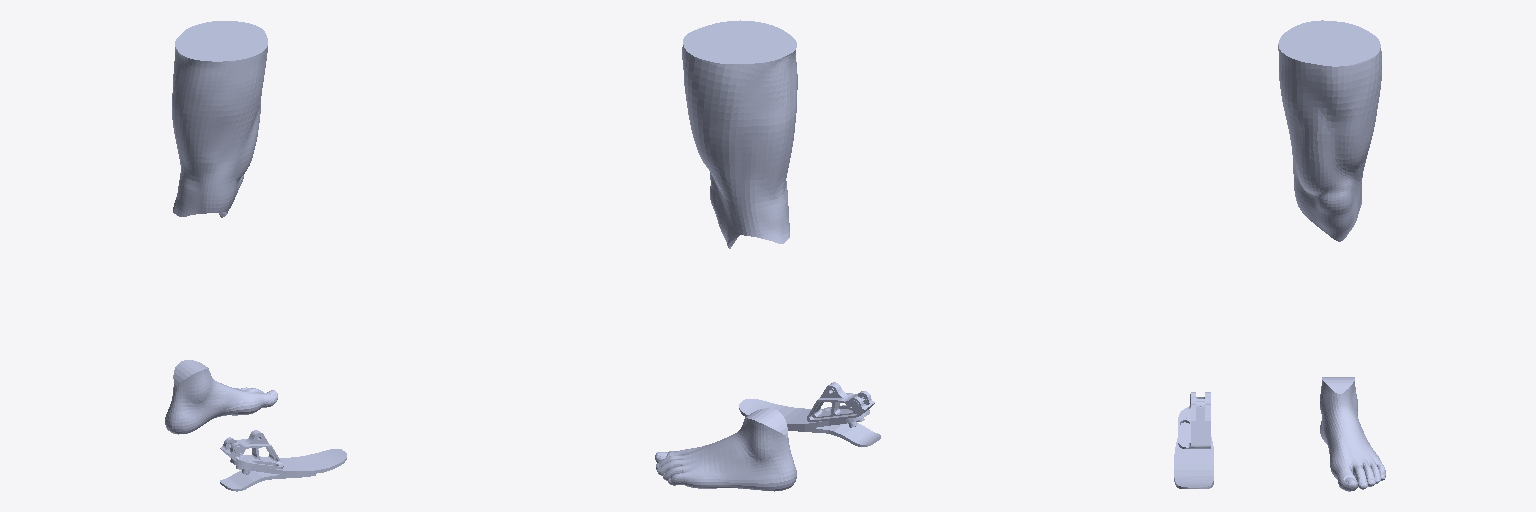
robot.urdf — oslsim:
<?xml version="1.0" encoding="utf-8"?>
<robot name="oslsim">
  <gazebo>
    <plugin name="gazebo_ros_control" filename="libgazebo_ros_control.so">
      <robotNamespace>/oslsim</robotNamespace>
    </plugin>
  </gazebo>

  <gazebo>
      <plugin name="p3d_base_controller" filename="libgazebo_ros_p3d.so">
        <robotNamespace>/oslsim</robotNamespace>
        <alwaysOn>true</alwaysOn>
        <updateRate>50.0</updateRate>
        <bodyName>body</bodyName>
        <topicName>odom</topicName>
        <gaussianNoise>0.01</gaussianNoise>
        <frameName>world</frameName>
        <xyzOffsets>0 0 0</xyzOffsets>
        <rpyOffsets>0 0 0</rpyOffsets>
      </plugin>
  </gazebo>

  <link name="world"/>

  <link name="slider">
    <inertial>
          <origin rpy="0.0 0 0" xyz="0 0 0"/>
          <mass value="0.001" />
          <inertia ixx="1.0e-07" ixy="0.0" ixz="0.0" iyy="1.0e-07" iyz="0.0" izz="1.0e-07"/>
      </inertial>
      <collision>
          <origin rpy="0.0 0 0" xyz="0 0 0"/>
          <geometry>
              <box size="0.25 0.25 0.01"/>
          </geometry>
      </collision>
  </link>

  <gazebo reference="slider">
      <kp>1000.0</kp>
      <kd>1000.0</kd>
      <mu1>0.5</mu1>
      <mu2>0.5</mu2>
      <material>Gazebo/Red</material>
  </gazebo>

  <joint name="slider_joint" type="prismatic">
      <origin xyz="0 0 0" rpy="0.0 0.0 0.0"/>
      <parent link="world" />
      <child link="slider" />
      <axis xyz="1 0 0" />
      <limit effort="1" lower="-10.0" upper="100.0" velocity="10" />
      <dynamics damping="0.1" friction="0.1"/>
  </joint>

  <link name="entity">
      <inertial>
            <origin rpy="0.0 0 0" xyz="0 0 0"/>
            <mass value="0.1" />
            <inertia ixx="4.16666666667e-05" ixy="0.0" ixz="0.0" iyy="4.16666666667e-05" iyz="0.0" izz="4.16666666667e-05"/>
        </inertial>
  </link>

  <gazebo reference="entity">
      <kp>1000.0</kp>
      <kd>1000.0</kd>
      <mu1>0.5</mu1>
      <mu2>0.5</mu2>
      <material>Gazebo/Blue</material>
  </gazebo>

  <joint name="entity_joint" type="fixed">
      <parent link="slider"/>
      <child link="entity"/>
      <origin xyz="0 0 -0.05" rpy="0 0 0"/>
  </joint>

  <joint name="root_joint" type="fixed">
    <parent link="entity"/>
    <child link="body"/>
  </joint>  

  <link name="body">
    <inertial>
      <origin
        xyz="0 0 0"
        rpy="0 0 0" />
      <mass
        value="0.1" />
      <inertia
        ixx="0.01"
        ixy="0"
        ixz="0"
        iyy="0.01"
        iyz="0"
        izz="0.01" />
    </inertial>
  </link>
  
  <gazebo reference="body">
      <kp>1000.0</kp>
      <kd>1000.0</kd>
      <mu1>0.5</mu1>
      <mu2>0.5</mu2>
  </gazebo>

  <link name="thighL">
    <inertial>
      <origin
        xyz="0.0079 0.105 -0.18514"
        rpy="1.5708 0 0" />
      <mass
        value="0.55797" />
      <inertia
        ixx="0.0451"
        ixy="-0.0023863"
        ixz="0.00041503"
        iyy="0.017843"
        iyz="-0.00079008"
        izz="0.046937" />
    </inertial>
    <visual>
      <origin
        xyz="0 0 -0.004"
        rpy="0 0 0" />
      <geometry>
        <mesh
          filename="package://oslsim/meshes/thigh.dae" />
      </geometry>
      <material
        name="">
        <color
          rgba="0.79216 0.81961 0.93333 1" />
      </material>
    </visual>
    <collision>
      <origin
        xyz="0.0079 0.105 -0.18514"
        rpy="1.5708 0 0" />
      <geometry>
        <box size="0.15 0.3 0.15"/>
      </geometry>
    </collision>
  </link>

  <gazebo reference="thighL">
      <kp>1000.0</kp>
      <kd>1000.0</kd>
      <mu1>0.5</mu1>
      <mu2>0.5</mu2>
      <sensor name="thighL_imu" type="imu">
        <always_on>true</always_on>
        <update_rate>50</update_rate>
        <visualize>true</visualize>
        <topic>__default_topic__</topic>
        <plugin filename="libgazebo_ros_imu_sensor.so" name="imu_plugin">
          <robotNamespace>/oslsim</robotNamespace>
          <topicName>imu/thighL</topicName>
          <bodyName>thighL</bodyName>
          <updateRateHZ>50.0</updateRateHZ>
          <gaussianNoise>0.0</gaussianNoise>
          <xyzOffset>0 0 0</xyzOffset>
          <rpyOffset>0 0 0</rpyOffset>
          <frameName>thighL</frameName>
          <initialOrientationAsReference>false</initialOrientationAsReference>
        </plugin>
        <pose>0 0 0 0 0 0</pose>
      </sensor>
  </gazebo>

  <link name="thighR">
    <inertial>
      <origin
        xyz="0.0149 -0.105 -0.18907"
        rpy="1.5708 0 0" />
      <mass
        value="0.55993" />
      <inertia
        ixx="0.045555"
        ixy="-0.0028683"
        ixz="-0.00027507"
        iyy="0.018107"
        iyz="0.0020012"
        izz="0.04735" />
    </inertial>
    <visual>
      <origin
        xyz="0 0 0"
        rpy="0 0 0" />
      <geometry>
        <mesh
          filename="package://oslsim/meshes/socket.dae" />
      </geometry>
      <material
        name="">
        <color
          rgba="0.79216 0.81961 0.93333 1" />
      </material>
    </visual>
    <collision>
      <origin
        xyz="0.0149 -0.105 -0.18907"
        rpy="1.5708 0 0" />
      <geometry>
        <box size="0.15 0.3 0.15"/>
      </geometry>
    </collision>
  </link>

  <gazebo reference="thighR">
      <kp>1000.0</kp>
      <kd>1000.0</kd>
      <mu1>0.5</mu1>
      <mu2>0.5</mu2>
      <sensor name="thighR_imu" type="imu">
        <always_on>true</always_on>
        <update_rate>50</update_rate>
        <visualize>true</visualize>
        <topic>__default_topic__</topic>
        <plugin filename="libgazebo_ros_imu_sensor.so" name="imu_plugin">
          <robotNamespace>/oslsim</robotNamespace>
          <topicName>imu/thighR</topicName>
          <bodyName>thighR</bodyName>
          <updateRateHZ>50.0</updateRateHZ>
          <gaussianNoise>0.0</gaussianNoise>
          <xyzOffset>0 0 0</xyzOffset>
          <rpyOffset>0 0 0</rpyOffset>
          <frameName>thighR</frameName>
          <initialOrientationAsReference>false</initialOrientationAsReference>
        </plugin>
        <pose>0 0 0 0 0 0</pose>
      </sensor>      
  </gazebo>

  <joint name="hipL" type="revolute">
    <parent link="body"/>
    <child link="thighL"/>
    <origin xyz="0 0 0" rpy="0 0 0" />
    <axis xyz="0 1 0" />
    <dynamics damping="0.5" friction="0.5"/>
    <limit effort="1.0" velocity="100" lower="-1.57" upper="1.57" />
  </joint>

  <transmission name="hipL_trans">
    <type>transmission_interface/SimpleTransmission</type>
    <joint name="hipL">
      <hardwareInterface>hardware_interface/EffortJointInterface</hardwareInterface>
    </joint>
    <actuator name="hipL_motor">
      <hardwareInterface>hardware_interface/EffortJointInterface</hardwareInterface>
      <mechanicalReduction>1</mechanicalReduction>
    </actuator>
  </transmission>

  <joint name="hipR" type="revolute">
    <parent link="body"/>
    <child link="thighR"/>
    <origin xyz="0 0 0" rpy="0 0 0" />
    <axis xyz="0 1 0" />
    <dynamics damping="0.5" friction="0.5"/>
    <limit effort="1.0" velocity="100" lower="-1.57" upper="1.57" />
  </joint>

  <transmission name="hipR_trans">
    <type>transmission_interface/SimpleTransmission</type>
    <joint name="hipR">
      <hardwareInterface>hardware_interface/EffortJointInterface</hardwareInterface>
    </joint>
    <actuator name="hipR_motor">
      <hardwareInterface>hardware_interface/EffortJointInterface</hardwareInterface>
      <mechanicalReduction>1</mechanicalReduction>
    </actuator>
  </transmission>

  <link name="pylonL">
    <inertial>
      <origin
        xyz="0.00071104 -0.14671 -0.059447"
        rpy="0 0 0" />
      <mass
        value="0.093649" />
      <inertia
        ixx="0.00092445"
        ixy="-1.5017E-05"
        ixz="-2.9597E-06"
        iyy="0.00064852"
        iyz="1.2705E-05"
        izz="0.0013496" />
    </inertial>
    <visual>
      <origin
        xyz="0.006 0.01 0.006"
        rpy="0 0 0" />
      <geometry>
        <mesh
          filename="package://oslsim/meshes/pylon.dae" />
      </geometry>
      <material
        name="">
        <color
          rgba="0.79216 0.81961 0.93333 1" />
      </material>
    </visual>
    <collision>
      <origin
        xyz="0.00071104 -0.14671 -0.059447"
        rpy="0 0 0" />
      <geometry>
        <box size="0.1 0.35 0.1"/>
      </geometry>
    </collision>
  </link>

  <gazebo reference="pylonL">
      <kp>1000.0</kp>
      <kd>1000.0</kd>
      <mu1>0.5</mu1>
      <mu2>0.5</mu2>
      <sensor name="pylonL_imu" type="imu">
        <always_on>true</always_on>
        <update_rate>50</update_rate>
        <visualize>true</visualize>
        <topic>__default_topic__</topic>
        <plugin filename="libgazebo_ros_imu_sensor.so" name="imu_plugin">
          <robotNamespace>/oslsim</robotNamespace>
          <topicName>imu/pylonL</topicName>
          <bodyName>pylonL</bodyName>
          <updateRateHZ>50.0</updateRateHZ>
          <gaussianNoise>0.0</gaussianNoise>
          <xyzOffset>0 0 0</xyzOffset>
          <rpyOffset>0 0 0</rpyOffset>
          <frameName>pylonL</frameName>
          <initialOrientationAsReference>false</initialOrientationAsReference>
        </plugin>
        <pose>0 0 0 0 0 0</pose>
      </sensor>      
  </gazebo>

  <link name="pylonR">
    <inertial>
      <origin
        xyz="0.00071137 -0.14671 0.059447"
        rpy="0 0 0" />
      <mass
        value="0.09365" />
      <inertia
        ixx="0.00092446"
        ixy="-1.5017E-05"
        ixz="2.9586E-06"
        iyy="0.00064852"
        iyz="-1.2701E-05"
        izz="0.0013496" />
    </inertial>
    <visual>
      <origin
        xyz="0 0 0"
        rpy="0 0 0" />
      <geometry>
        <mesh
          filename="package://oslsim/meshes/pylonR.dae" />
      </geometry>
      <material
        name="">
        <color
          rgba="0.79216 0.81961 0.93333 1" />
      </material>
    </visual>
    <collision>
      <origin
        xyz="0.00071137 -0.14671 0.059447"
        rpy="0 0 0" />
      <geometry>
        <box size="0.1 0.35 0.1"/>
      </geometry>
    </collision>
  </link>

  <gazebo reference="pylonR">
      <kp>1000.0</kp>
      <kd>1000.0</kd>
      <mu1>0.5</mu1>
      <mu2>0.5</mu2>
      <sensor name="pylonR_imu" type="imu">
        <always_on>true</always_on>
        <update_rate>50</update_rate>
        <visualize>true</visualize>
        <topic>__default_topic__</topic>
        <plugin filename="libgazebo_ros_imu_sensor.so" name="imu_plugin">
          <robotNamespace>/oslsim</robotNamespace>
          <topicName>imu/pylonR</topicName>
          <bodyName>pylonR</bodyName>
          <updateRateHZ>50.0</updateRateHZ>
          <gaussianNoise>0.0</gaussianNoise>
          <xyzOffset>0 0 0</xyzOffset>
          <rpyOffset>0 0 0</rpyOffset>
          <frameName>pylonR</frameName>
          <initialOrientationAsReference>false</initialOrientationAsReference>
        </plugin>
        <pose>0 0 0 0 0 0</pose>
      </sensor>      
  </gazebo>

  <joint name="kneeL"
    type="revolute">
    <origin
      xyz="-0.0073766 0.057865 -0.4427"
      rpy="1.5708 0 0" />
    <parent
      link="thighL" />
    <child
      link="pylonL" />
    <axis
      xyz="0 0 1" />
    <dynamics damping="0.5" friction="0.5"/>
    <limit effort="1.0" velocity="100" lower="-1.57" upper="1.57" />      
  </joint>

  <transmission name="kneeL_trans">
    <type>transmission_interface/SimpleTransmission</type>
    <joint name="kneeL">
      <hardwareInterface>hardware_interface/EffortJointInterface</hardwareInterface>
    </joint>
    <actuator name="kneeL_motor">
      <hardwareInterface>hardware_interface/EffortJointInterface</hardwareInterface>
      <mechanicalReduction>1</mechanicalReduction>
    </actuator>
  </transmission>

  <joint name="kneeR" type="revolute">
    <origin
      xyz="-0.0073766 -0.062441 -0.4427"
      rpy="1.5708 0 0" />
    <parent
      link="thighR" />
    <child
      link="pylonR" />
    <axis
      xyz="0 0 1" />
    <dynamics damping="0.5" friction="0.5"/>
    <limit effort="1.0" velocity="100" lower="-1.57" upper="1.57" />
  </joint>

  <transmission name="kneeR_trans">
    <type>transmission_interface/SimpleTransmission</type>
    <joint name="kneeR">
      <hardwareInterface>hardware_interface/EffortJointInterface</hardwareInterface>
    </joint>
    <actuator name="kneeR_motor">
      <hardwareInterface>hardware_interface/EffortJointInterface</hardwareInterface>
      <mechanicalReduction>1</mechanicalReduction>
    </actuator>
  </transmission>

  <link name="footL">
    <inertial>
      <origin
        xyz="0.029606 -0.056108 0.013102"
        rpy="0 0 0" />
      <mass
        value="0.001" />
      <inertia
        ixx="0.00051563"
        ixy="2.5317E-06"
        ixz="-1.6036E-06"
        iyy="0.00049449"
        iyz="0.0001344"
        izz="0.0001125" />
    </inertial>
    <visual>
      <origin
        xyz="-0.0035 0.02 0.024"
        rpy="0 0 0" />
      <geometry>
        <mesh
          filename="package://oslsim/meshes/foot.dae" />
      </geometry>
      <material
        name="">
        <color
          rgba="0.79216 0.81961 0.93333 1" />
      </material>
    </visual>
    <collision>
      <origin
        xyz="0.029606 -0.065 0.05"
        rpy="0 0 0" />
      <geometry>
        <box size="0.0675 0.025 0.2"/>
      </geometry>
      <surface>
        <friction>
          <ode>
            <mu>1.0</mu>
            <mu2>1.0</mu2>
            <fdir1>1 0 0</fdir1>
            <slip1>0</slip1>
            <slip2>0</slip2>
          </ode>
          <torsional>
            <coefficient>0.0</coefficient>
            <patch_radius>0</patch_radius>
            <surface_radius>0</surface_radius>
            <use_patch_radius>1</use_patch_radius>
            <ode>
              <slip>0</slip>
            </ode>
          </torsional>
        </friction>  
      </surface>
    </collision>
  </link>

  <gazebo reference="footL">
      <kp>1000.0</kp>
      <kd>1000.0</kd>
      <mu1>1.0</mu1>
      <mu2>1.0</mu2>
      <sensor name="footL_imu" type="imu">
        <always_on>true</always_on>
        <update_rate>50</update_rate>
        <visualize>true</visualize>
        <topic>__default_topic__</topic>
        <plugin filename="libgazebo_ros_imu_sensor.so" name="imu_plugin">
          <robotNamespace>/oslsim</robotNamespace>
          <topicName>imu/footL</topicName>
          <bodyName>footL</bodyName>
          <updateRateHZ>50.0</updateRateHZ>
          <gaussianNoise>0.0</gaussianNoise>
          <xyzOffset>0 0 0</xyzOffset>
          <rpyOffset>0 0 0</rpyOffset>
          <frameName>footL</frameName>
          <initialOrientationAsReference>false</initialOrientationAsReference>
        </plugin>
        <pose>0 0 0 0 0 0</pose>
      </sensor>      
  </gazebo>

  <link name="footR">
    <inertial>
      <origin
        xyz="0.029606 0.056108 0.013102"
        rpy="0 0 0" />
      <mass
        value="0.001" />
      <inertia
        ixx="0.00051564"
        ixy="-2.531E-06"
        ixz="-1.6019E-06"
        iyy="0.0004945"
        iyz="-0.0001344"
        izz="0.0001125" />
    </inertial>
    <visual>
      <origin
        xyz="0 0 0"
        rpy="0.175 0 0" />
      <geometry>
        <mesh
          filename="package://oslsim/meshes/footR.dae" />
      </geometry>
      <material
        name="">
        <color
          rgba="0.79216 0.81961 0.93333 1" />
      </material>
    </visual>
    <collision>
      <origin
        xyz="0.029606 0.065 0.05"
        rpy="0 0 0" />
      <geometry>
        <box size="0.0675 0.025 0.2"/>
      </geometry>
      <surface>
        <friction>
          <ode>
            <mu>1.0</mu>
            <mu2>1.0</mu2>
            <fdir1>1 0 0</fdir1>
            <slip1>0</slip1>
            <slip2>0</slip2>
          </ode>
          <torsional>
            <coefficient>0.0</coefficient>
            <patch_radius>0</patch_radius>
            <surface_radius>0</surface_radius>
            <use_patch_radius>1</use_patch_radius>
            <ode>
              <slip>0</slip>
            </ode>
          </torsional>
        </friction>    
      </surface>
    </collision>
  </link>

  <gazebo reference="footR">
      <kp>1000.0</kp>
      <kd>1000.0</kd>
      <mu1>1.0</mu1>
      <mu2>1.0</mu2>
      <sensor name="footR_imu" type="imu">
        <always_on>true</always_on>
        <update_rate>50</update_rate>
        <visualize>true</visualize>
        <topic>__default_topic__</topic>
        <plugin filename="libgazebo_ros_imu_sensor.so" name="imu_plugin">
          <robotNamespace>/oslsim</robotNamespace>
          <topicName>imu/footR</topicName>
          <bodyName>footR</bodyName>
          <updateRateHZ>50.0</updateRateHZ>
          <gaussianNoise>0.0</gaussianNoise>
          <xyzOffset>0 0 0</xyzOffset>
          <rpyOffset>0 0 0</rpyOffset>
          <frameName>footR</frameName>
          <initialOrientationAsReference>false</initialOrientationAsReference>
        </plugin>
        <pose>0 0 0 0 0 0</pose>
      </sensor>      
  </gazebo>

  <joint name="ankleL"
    type="revolute">
    <origin
      xyz="-0.00077967 -0.3134 -0.026811"
      rpy="0 1.5708 0" />
    <parent
      link="pylonL" />
    <child
      link="footL" />
    <axis
      xyz="1 0 0" />
    <dynamics damping="0.5" friction="0.5"/>      
    <limit effort="1.0" velocity="100" lower="-1.57" upper="1.57" />      
  </joint>

  <transmission name="ankleL_trans">
    <type>transmission_interface/SimpleTransmission</type>
    <joint name="ankleL">
      <hardwareInterface>hardware_interface/EffortJointInterface</hardwareInterface>
    </joint>
    <actuator name="ankleL_motor">
      <hardwareInterface>hardware_interface/EffortJointInterface</hardwareInterface>
      <mechanicalReduction>1</mechanicalReduction>
    </actuator>
  </transmission>

  <joint name="ankleR"
    type="revolute">
    <origin
      xyz="-0.00077967 -0.3134 0.026811"
      rpy="-3.1416 -1.5708 0" />
    <parent
      link="pylonR" />
    <child
      link="footR" />
    <axis
      xyz="1 0 0" />
    <dynamics damping="0.5" friction="0.5"/>
    <limit effort="1.0" velocity="100" lower="-1.57" upper="1.57" />      
  </joint>

  <transmission name="ankleR_trans">
    <type>transmission_interface/SimpleTransmission</type>
    <joint name="ankleR">
      <hardwareInterface>hardware_interface/EffortJointInterface</hardwareInterface>
    </joint>
    <actuator name="ankleR_motor">
      <hardwareInterface>hardware_interface/EffortJointInterface</hardwareInterface>
      <mechanicalReduction>1</mechanicalReduction>
    </actuator>
  </transmission>

  <link name="footL_heel">
    <inertial>
          <origin xyz="0 0 0" rpy="0 0 0"/>
          <mass value="0.00001" />
          <inertia ixx="1.6e-08" ixy="0.0" ixz="0.0" iyy="1.6e-08" iyz="0.0" izz="1.6e-08"/>
      </inertial>
      <collision>
          <origin xyz="0 0 0" rpy="0 0 0"/>
          <geometry>
              <sphere radius="0.020"/>
          </geometry>
      </collision>
  </link>

  <gazebo reference="footL_heel">
      <kp>1000.0</kp>
      <kd>1000.0</kd>
      <mu1>0.5</mu1>
      <mu2>0.5</mu2>
  </gazebo>

  <link name="footR_loadcell_link">
    <inertial>
          <origin xyz="0 0 0" rpy="0 0 0"/>
          <mass value="0.00001" />
          <inertia ixx="1.6e-08" ixy="0.0" ixz="0.0" iyy="1.6e-08" iyz="0.0" izz="1.6e-08"/>
      </inertial>
      <collision>
          <origin xyz="0 0 0" rpy="0 0 0"/>
          <geometry>
              <sphere radius="0.020"/>
          </geometry>
      </collision>
  </link>

  <gazebo reference="footR_loadcell_link">
      <kp>1000.0</kp>
      <kd>1000.0</kd>
      <mu1>0.5</mu1>
      <mu2>0.5</mu2>
  </gazebo>

  <joint name="footL_heel_joint" type="fixed">
      <parent link="footL"/>
      <child link="footL_heel"/>
      <origin xyz="0.03 -0.065 0" rpy="0 0 0"/>
  </joint>

  <joint name="footR_loadcell_link_joint" type="fixed">
      <parent link="footR"/>
      <child link="footR_loadcell_link"/>
      <origin xyz="0.03 0.065 0" rpy="0 0 0"/>
  </joint>

  <gazebo reference="footR_loadcell_link">
      <sensor name="footR_loadcell_sensor" type="contact">
        <always_on>true</always_on>
        <update_rate>50</update_rate>
        <contact>
          <collision>footR_loadcell_link_collision_1</collision>
        </contact>
        <plugin name="footR_bumper_plugin" filename="libgazebo_ros_bumper.so">
          <robotNamespace>/oslsim</robotNamespace>
          <bumperTopicName>footR/loadcell</bumperTopicName>
          <frameName>footR_loadcell_link</frameName>
        </plugin>
      </sensor>
  </gazebo>

</robot>

--- Render facts (derived) ---
The picture shows the robot from 3 angles, left to right: view 1: azimuth 30°, elevation 25°; view 2: azimuth 150°, elevation 25°; view 3: azimuth 270°, elevation 25°; orthographic projection.
Model oslsim with 12 links and 11 joints (6 revolute, 1 prismatic, 4 fixed), rooted at world, posed every joint at zero.
Visible links, largest first — view 1: thighL, footL, footR; view 2: thighL, footL, footR; view 3: thighL, footL, footR.
Boxes of the visible links, box(x1,y1,x2,y2) form: thighL: box(172, 21, 267, 217); footL: box(165, 360, 277, 434); footR: box(220, 430, 346, 491); thighL: box(682, 20, 797, 248); footL: box(655, 408, 796, 491); footR: box(739, 382, 880, 446); thighL: box(1278, 20, 1381, 241); footL: box(1320, 377, 1385, 491); footR: box(1174, 392, 1213, 488).
Size in the robot's own frame: 0.2513 by 0.3387 by 0.7439 metres.
3 mesh visuals loaded from 6 distinct referenced files (3 Collada DAE); not drawn: 2 (reference not matched to a file when rendering), 1 (file found but could not be loaded).
